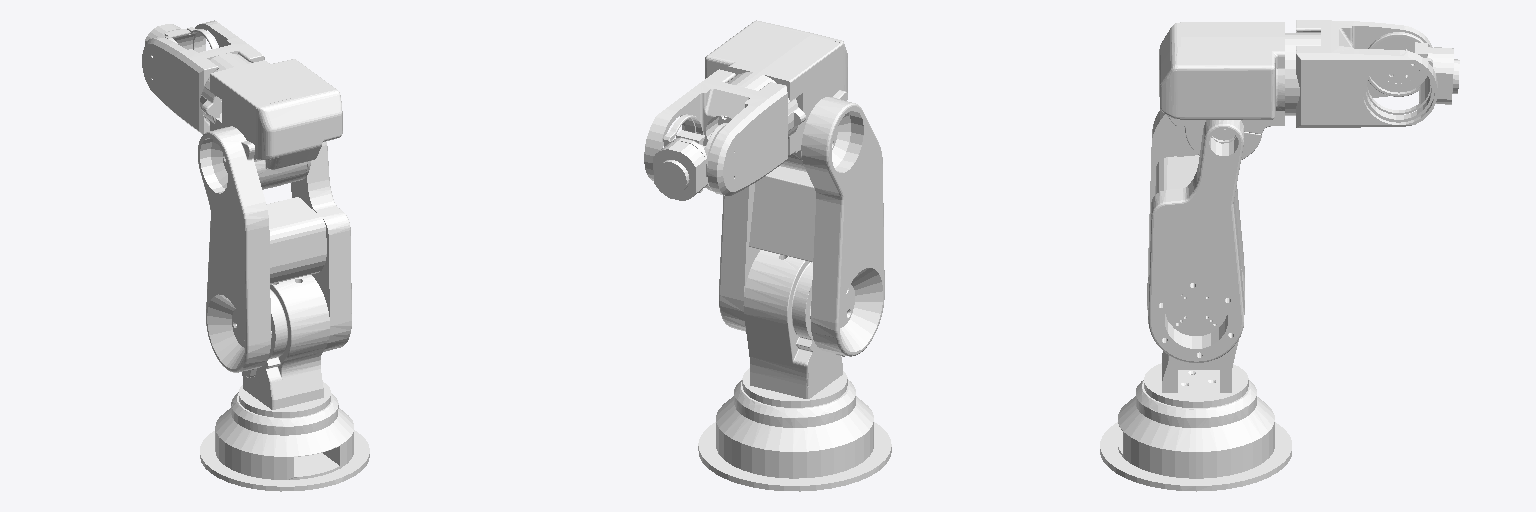
robot.urdf — URDFrv4310V5:
<?xml version="1.0" encoding="utf-8"?>
<!-- This URDF was automatically created by SolidWorks to URDF Exporter! Originally created by Stephen Brawner (brawner@gmail.com) 
     Commit Version: 1.6.0-4-g7f85cfe  Build Version: 1.6.7995.38578
     For more information, please see http://wiki.ros.org/sw_urdf_exporter -->
<robot
  name="URDFrv4310V5">
  <link
    name="base_link">
    <inertial>
      <origin
        xyz="-0.0101029928561829 0.00541510687776237 0.00457907189567913"
        rpy="0 0 0" />
      <mass
        value="0.549364878093784" />
      <inertia
        ixx="0.000771742191237932"
        ixy="8.38431267360727E-10"
        ixz="-4.722910695528E-10"
        iyy="0.000859100434967534"
        iyz="9.87271661745301E-06"
        izz="0.00131623999693316" />
    </inertial>
    <visual>
      <origin
        xyz="0 0 0"
        rpy="0 0 0" />
      <geometry>
        <mesh
          filename="package://URDFrv4310V5/meshes/base_link.STL" />
      </geometry>
      <material
        name="">
        <color
          rgba="1 1 1 1" />
      </material>
    </visual>
    <collision>
      <origin
        xyz="0 0 0"
        rpy="0 0 0" />
      <geometry>
        <mesh
          filename="package://URDFrv4310V5/meshes/base_link.STL" />
      </geometry>
    </collision>
  </link>
  <link
    name="Link_2">
    <inertial>
      <origin
        xyz="-0.000781490820317452 0.0580700930599702 -0.00126797317734528"
        rpy="0 0 0" />
      <mass
        value="0.242062228655253" />
      <inertia
        ixx="0.000504928035272043"
        ixy="-2.5429599432052E-05"
        ixz="-5.28431936620998E-07"
        iyy="0.000210327427014084"
        iyz="-3.40498472835185E-06"
        izz="0.000444829175712722" />
    </inertial>
    <visual>
      <origin
        xyz="0 0 0"
        rpy="0 0 0" />
      <geometry>
        <mesh
          filename="package://URDFrv4310V5/meshes/Link_2.STL" />
      </geometry>
      <material
        name="">
        <color
          rgba="1 1 1 1" />
      </material>
    </visual>
    <collision>
      <origin
        xyz="0 0 0"
        rpy="0 0 0" />
      <geometry>
        <mesh
          filename="package://URDFrv4310V5/meshes/Link_2.STL" />
      </geometry>
    </collision>
  </link>
  <joint
    name="Joint_2"
    type="revolute">
    <origin
      xyz="-0.010103026744882 0.00179032146302967 0.0400894885827927"
      rpy="1.5707963267949 0 0.179381121036193" />
    <parent
      link="base_link" />
    <child
      link="Link_2" />
    <axis
      xyz="0 -1 0" />
    <limit
      lower="-3"
      upper="3"
      effort="1"
      velocity="31" />
  </joint>
  <link
    name="Link_3">
    <inertial>
      <origin
        xyz="-0.0102408291409294 0.0707256840193482 0.00947108639695265"
        rpy="0 0 0" />
      <mass
        value="0.832348909178528" />
      <inertia
        ixx="0.00232960877172623"
        ixy="0.00015238266675239"
        ixz="3.34530799286928E-05"
        iyy="0.0016150997682486"
        iyz="-0.000102104199591924"
        izz="0.00319864134791107" />
    </inertial>
    <visual>
      <origin
        xyz="0 0 0"
        rpy="0 0 0" />
      <geometry>
        <mesh
          filename="package://URDFrv4310V5/meshes/Link_3.STL" />
      </geometry>
      <material
        name="">
        <color
          rgba="1 1 1 1" />
      </material>
    </visual>
    <collision>
      <origin
        xyz="0 0 0"
        rpy="0 0 0" />
      <geometry>
        <mesh
          filename="package://URDFrv4310V5/meshes/Link_3.STL" />
      </geometry>
    </collision>
  </link>
  <joint
    name="Joint_3"
    type="revolute">
    <origin
      xyz="0 0.0839285714286007 0"
      rpy="0.0898969539883811 0 0" />
    <parent
      link="Link_2" />
    <child
      link="Link_3" />
    <axis
      xyz="-1 0 0" />
    <limit
      lower="-1.8"
      upper="2.4"
      effort="1"
      velocity="31" />
  </joint>
  <link
    name="Link_4">
    <inertial>
      <origin
        xyz="0.00381649471351599 0.0356879902083884 -0.00180159251172421"
        rpy="0 0 0" />
      <mass
        value="0.540085641549987" />
      <inertia
        ixx="0.000881926455065342"
        ixy="-2.47270058115414E-05"
        ixz="-3.29414418346279E-05"
        iyy="0.000908479777825283"
        iyz="-7.96735726198769E-06"
        izz="0.000627783398535952" />
    </inertial>
    <visual>
      <origin
        xyz="0 0 0"
        rpy="0 0 0" />
      <geometry>
        <mesh
          filename="package://URDFrv4310V5/meshes/Link_4.STL" />
      </geometry>
      <material
        name="">
        <color
          rgba="1 1 1 1" />
      </material>
    </visual>
    <collision>
      <origin
        xyz="0 0 0"
        rpy="0 0 0" />
      <geometry>
        <mesh
          filename="package://URDFrv4310V5/meshes/Link_4.STL" />
      </geometry>
    </collision>
  </link>
  <joint
    name="Joint_4"
    type="revolute">
    <origin
      xyz="0 0.164285714285755 0"
      rpy="-0.0898969539883811 0 0" />
    <parent
      link="Link_3" />
    <child
      link="Link_4" />
    <axis
      xyz="-1 0 0" />
    <limit
      lower="-1.7"
      upper="0.9"
      effort="1"
      velocity="31" />
  </joint>
  <link
    name="Link_5">
    <inertial>
      <origin
        xyz="-5.0421643316749E-05 3.87733861684225E-09 -0.0908596484967922"
        rpy="0 0 0" />
      <mass
        value="0.489826895148836" />
      <inertia
        ixx="0.000872428710041982"
        ixy="-6.43473032899696E-10"
        ixz="-2.5329942025357E-06"
        iyy="0.000954886719214237"
        iyz="-3.37703549154218E-09"
        izz="0.000448735336495913" />
    </inertial>
    <visual>
      <origin
        xyz="0 0 0"
        rpy="0 0 0" />
      <geometry>
        <mesh
          filename="package://URDFrv4310V5/meshes/Link_5.STL" />
      </geometry>
      <material
        name="">
        <color
          rgba="1 1 1 1" />
      </material>
    </visual>
    <collision>
      <origin
        xyz="0 0 0"
        rpy="0 0 0" />
      <geometry>
        <mesh
          filename="package://URDFrv4310V5/meshes/Link_5.STL" />
      </geometry>
    </collision>
  </link>
  <joint
    name="Joint_5"
    type="revolute">
    <origin
      xyz="-0.00750000000007934 0.035714285805316 -0.0379248046559524"
      rpy="0 0 -0.0982952561954597" />
    <parent
      link="Link_4" />
    <child
      link="Link_5" />
    <axis
      xyz="0 0 1" />
    <limit
      lower="-4"
      upper="4"
      effort="1"
      velocity="31" />
  </joint>
  <link
    name="Link_6">
    <inertial>
      <origin
        xyz="-0.00072939051878454 -0.0317590418807804 -0.000163870140061251"
        rpy="0 0 0" />
      <mass
        value="0.0433916328445809" />
      <inertia
        ixx="1.59733296829986E-05"
        ixy="2.64102846180445E-07"
        ixz="6.4089632629229E-10"
        iyy="1.34169955464181E-05"
        iyz="1.18565253666416E-07"
        izz="1.36372515629565E-05" />
    </inertial>
    <visual>
      <origin
        xyz="0 0 0"
        rpy="0 0 0" />
      <geometry>
        <mesh
          filename="package://URDFrv4310V5/meshes/Link_6.STL" />
      </geometry>
      <material
        name="">
        <color
          rgba="1 1 1 1" />
      </material>
    </visual>
    <collision>
      <origin
        xyz="0 0 0"
        rpy="0 0 0" />
      <geometry>
        <mesh
          filename="package://URDFrv4310V5/meshes/Link_6.STL" />
      </geometry>
    </collision>
  </link>
  <joint
    name="Joint_6"
    type="revolute">
    <origin
      xyz="0 0 -0.15373"
      rpy="0.28181 0 0" />
    <parent
      link="Link_5" />
    <child
      link="Link_6" />
    <axis
      xyz="-1 0 0" />
    <limit
      lower="-3.5"
      upper="0.9"
      effort="1"
      velocity="31" />
  </joint>
</robot>

--- Render facts (derived) ---
The picture shows the robot from 3 angles, left to right: view 1: azimuth 30°, elevation 25°; view 2: azimuth 150°, elevation 25°; view 3: azimuth 270°, elevation 25°; orthographic projection.
Robot: URDFrv4310V5 — 6 links, 5 joints (5 revolute); root link base_link; default pose: every joint at zero.
Visible links, largest first — view 1: Link_3, Link_4, base_link, Link_2, Link_5, Link_6; view 2: Link_3, base_link, Link_2, Link_5, Link_4, Link_6; view 3: Link_3, Link_4, base_link, Link_5, Link_2, Link_6.
Boxes of the visible links, x1,y1,x2,y2 form: Link_3: (198, 126, 351, 377); Link_4: (200, 53, 342, 189); base_link: (200, 392, 369, 491); Link_2: (239, 275, 330, 417); Link_5: (142, 20, 264, 134); Link_6: (145, 24, 217, 49); Link_3: (719, 90, 884, 356); base_link: (698, 380, 891, 491); Link_2: (742, 250, 847, 407); Link_5: (644, 69, 787, 195); Link_4: (705, 20, 847, 171); Link_6: (653, 114, 727, 200); Link_3: (1148, 110, 1244, 362); Link_4: (1159, 22, 1320, 159); base_link: (1100, 380, 1291, 491); Link_5: (1296, 20, 1437, 127); Link_2: (1144, 269, 1248, 407); Link_6: (1366, 32, 1459, 114).
Bounding box of the posed robot: 0.16 × 0.2984 × 0.3758 m (x, y, z).
Meshes: 6 distinct files referenced, 6 mesh visuals loaded (6 binary STL).
